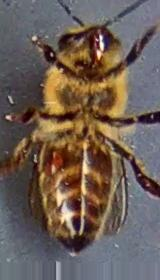varroa_mite: (48, 152, 72, 171)
